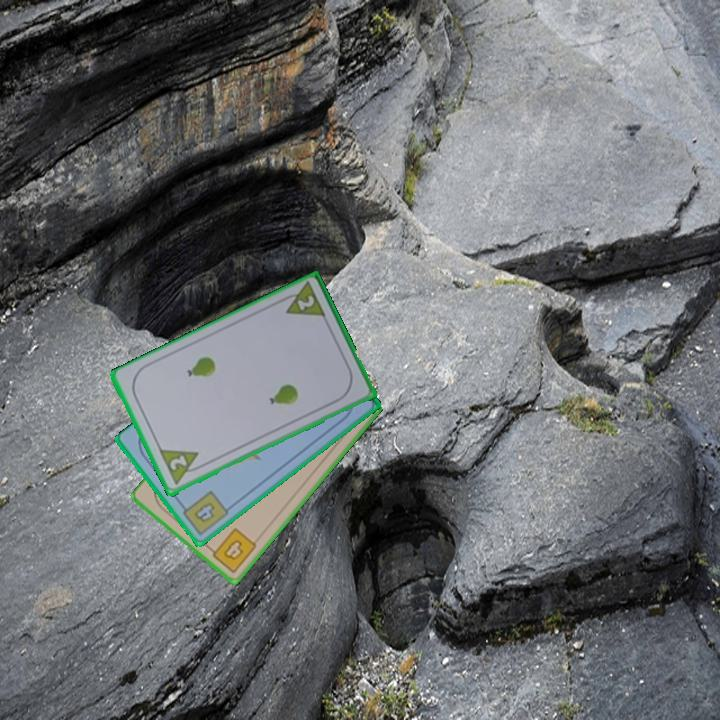2p: (276, 280, 329, 322), (156, 446, 207, 489)
4b: (204, 524, 260, 576), (177, 487, 232, 538)
